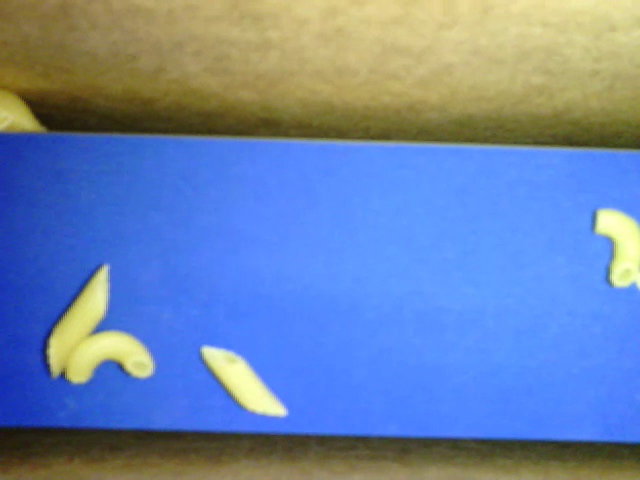elbow: (64, 329, 155, 386), (595, 208, 639, 292)
penne: (44, 260, 111, 384), (196, 338, 292, 420)
shell: (1, 82, 57, 139)
